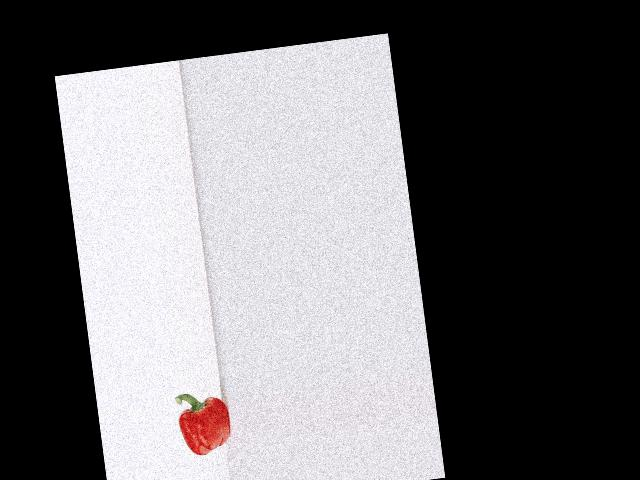bell_pepper: (171, 382, 236, 461)
